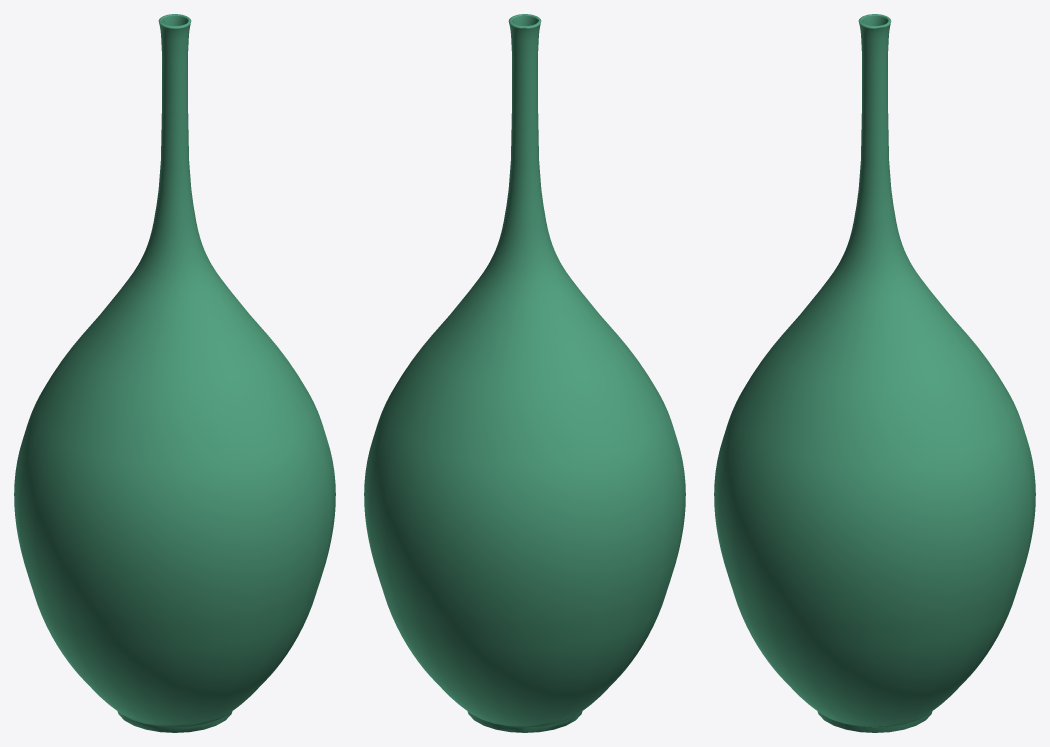
Rendered from Pot11.fbx.
3 renders of one model, left to right at view 1: azimuth 30°, elevation 25°; view 2: azimuth 150°, elevation 25°; view 3: azimuth 270°, elevation 25°, orthographic.
Visible parts, largest first — view 1: Pot11; view 2: Pot11; view 3: Pot11.
Part boxes in pixels (x1,y1,x2,y2): Pot11: (14, 14, 335, 732); Pot11: (364, 14, 685, 732); Pot11: (714, 14, 1035, 732).
Bounding box in the file's own units: 0.1116 × 0.2634 × 0.1116.
